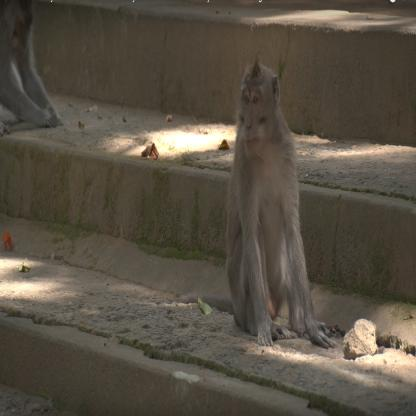monkey: (224, 54, 337, 350)
